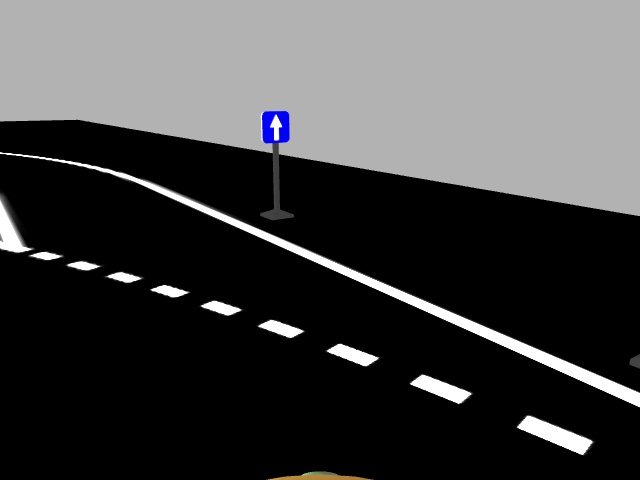OneWay: (259, 108, 291, 143)
